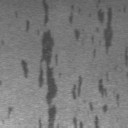red iron: (21, 0, 58, 128), (74, 0, 114, 58), (74, 78, 120, 128), (68, 4, 82, 22), (72, 76, 82, 100), (124, 46, 128, 66), (7, 107, 12, 118)
